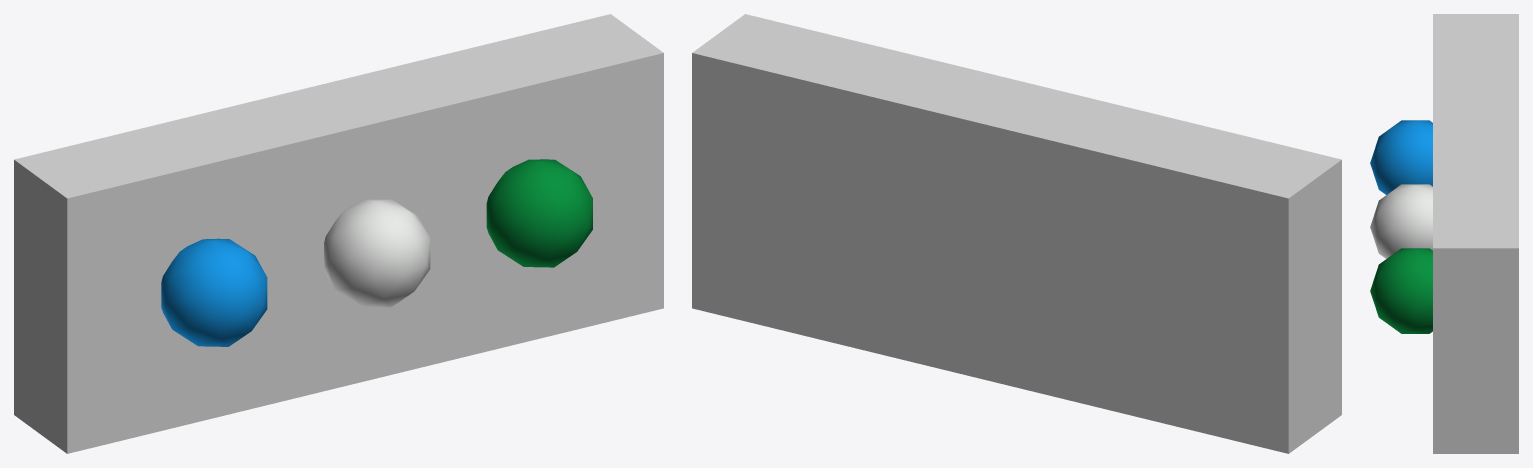
The model's file is D2_warning_lights_and_cut_outs.glb.
3 views of the same model, side by side, from view 1: azimuth 30°, elevation 25°; view 2: azimuth 150°, elevation 25°; view 3: azimuth 270°, elevation 25° (orthographic). The views are drawn at different scales.
Parts seen in each view (by area): view 1: dashboard_white, warning-lamp_green, warning-lamp_grey, warning-lamp_blue; view 2: dashboard_white; view 3: dashboard_white, warning-lamp_green, warning-lamp_blue, warning-lamp_grey.
Boxes of the visible parts, x1,y1,x2,y2 form: dashboard_white: (14, 14, 663, 453); warning-lamp_green: (486, 159, 592, 267); warning-lamp_grey: (324, 199, 430, 307); warning-lamp_blue: (161, 238, 267, 346); dashboard_white: (692, 14, 1341, 453); dashboard_white: (1433, 14, 1518, 453); warning-lamp_green: (1370, 248, 1432, 333); warning-lamp_blue: (1370, 120, 1432, 194); warning-lamp_grey: (1370, 184, 1432, 258).
Bounding box in the file's own units: 1.1 × 0.45 × 0.295.
